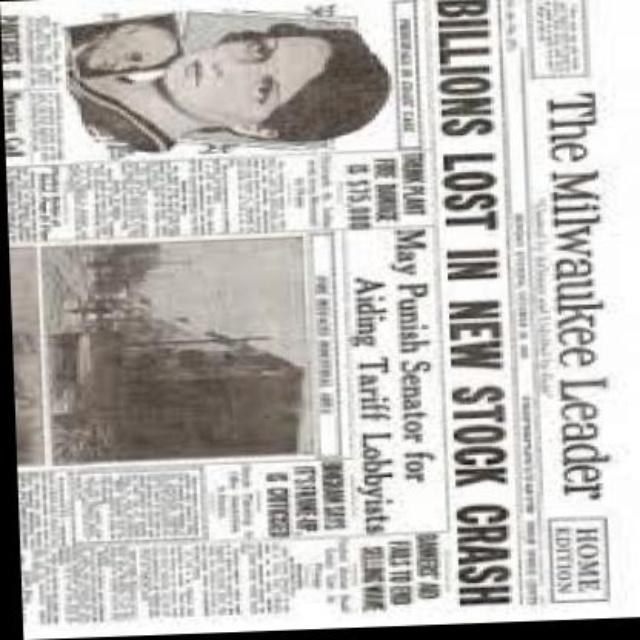trash: (0, 0, 638, 635)
